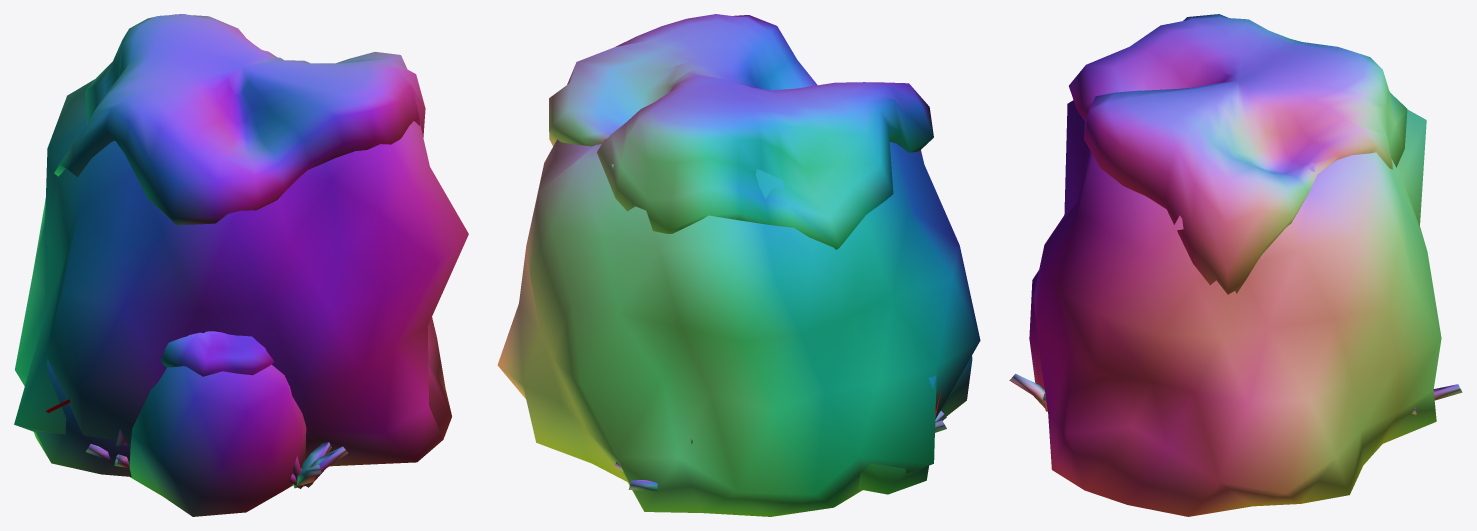
File: SM_Outcrop_Plains_V3.fbx
3 renders of one model, left to right at view 1: azimuth 30°, elevation 25°; view 2: azimuth 150°, elevation 25°; view 3: azimuth 270°, elevation 25°, orthographic.
Parts seen in each view (by area): view 1: SM_Outcrop_Plains_V3; view 2: SM_Outcrop_Plains_V3; view 3: SM_Outcrop_Plains_V3.
Part boxes in pixels (x1,y1,x2,y2): SM_Outcrop_Plains_V3: (14,14,468,516); SM_Outcrop_Plains_V3: (497,14,980,516); SM_Outcrop_Plains_V3: (1009,14,1462,516).
Bounding box in the file's own units: 1.7 × 1.39 × 1.59.
